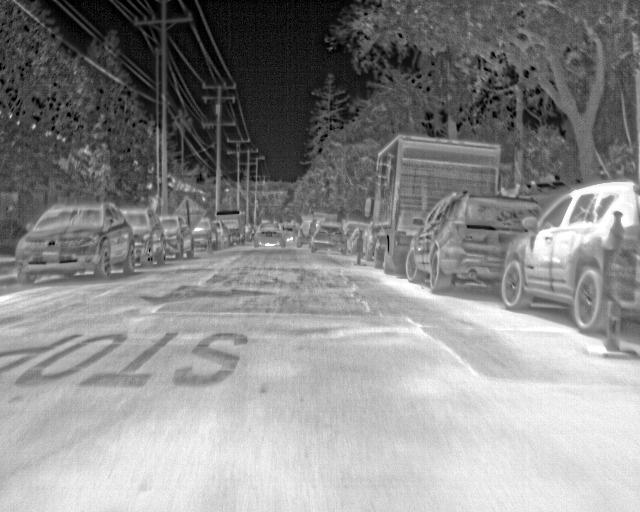bicycle: (500, 178, 635, 332), (404, 193, 539, 294), (13, 200, 135, 284), (120, 206, 164, 266), (158, 213, 191, 259), (309, 219, 345, 252), (189, 217, 217, 252), (254, 217, 287, 246)
